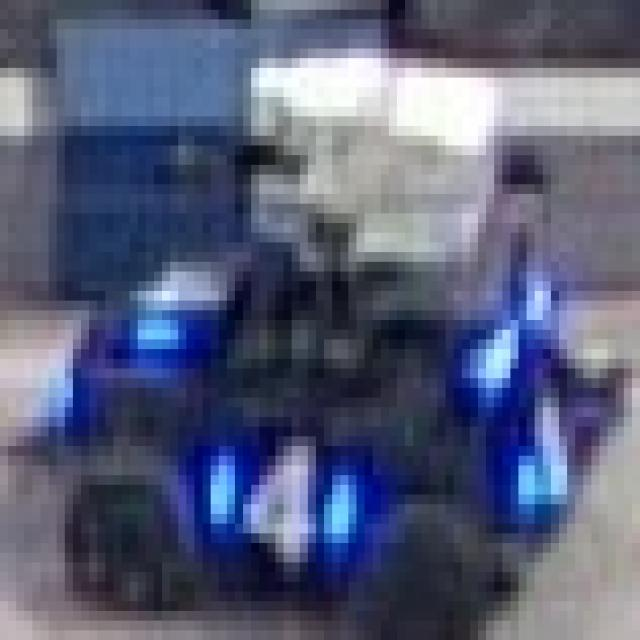B4: (186, 417, 381, 582)
